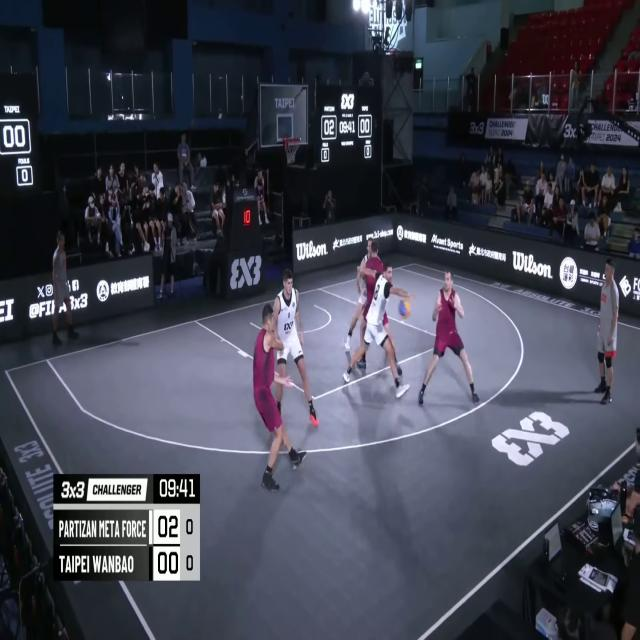ball: (396, 296, 411, 319)
hoop: (284, 133, 300, 167)
player: (254, 304, 308, 494), (346, 264, 415, 403), (416, 268, 480, 409), (268, 270, 320, 434), (354, 236, 401, 378), (347, 238, 375, 358)
